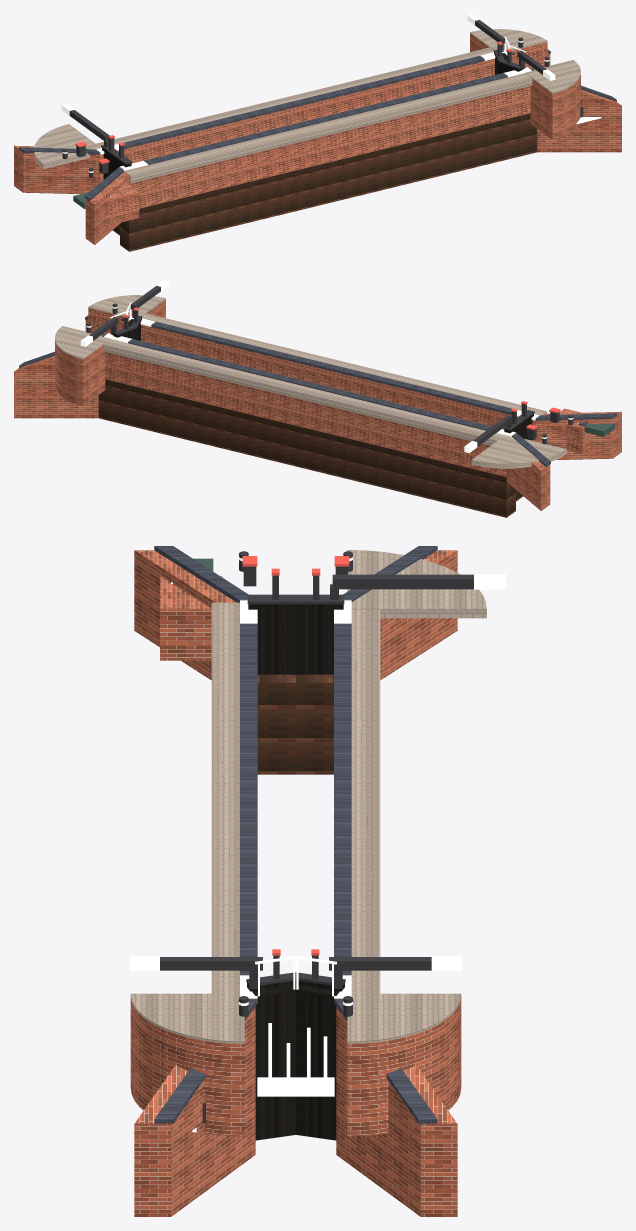
The model's file is lock-41.glb.
The picture shows the model from 3 angles, top to bottom: view 1: azimuth 30°, elevation 25°; view 2: azimuth 150°, elevation 25°; view 3: azimuth 270°, elevation 25°; orthographic projection. The views are drawn at different scales.
Parts seen in each view (by area): view 1: Chamber, ChamberWet, Edge, Coping.001, TopGateCap, Coping, TopGate; view 2: Chamber, ChamberWet, Edge, Coping.001, TopGateCap, Coping, TopGate; view 3: Chamber, Edge, Coping.001, TopGate, TopGateCap, ChamberWet, Coping, Leak.
Part boxes in pixels (bbox=[...]): Chamber: bbox=[14, 33, 621, 244]; ChamberWet: bbox=[112, 113, 537, 251]; Edge: bbox=[34, 29, 580, 183]; Coping.001: bbox=[19, 49, 616, 200]; TopGateCap: bbox=[62, 20, 583, 178]; Coping: bbox=[61, 14, 555, 172]; TopGate: bbox=[102, 52, 525, 179]; Chamber: bbox=[14, 299, 621, 510]; ChamberWet: bbox=[98, 379, 523, 517]; Edge: bbox=[55, 295, 566, 468]; Coping.001: bbox=[19, 315, 616, 466]; TopGateCap: bbox=[86, 286, 573, 446]; Coping: bbox=[80, 280, 573, 452]; TopGate: bbox=[110, 318, 533, 440]; Chamber: bbox=[130, 550, 461, 1216]; Edge: bbox=[130, 550, 486, 1043]; Coping.001: bbox=[154, 546, 437, 1123]; TopGate: bbox=[247, 604, 344, 1140]; TopGateCap: bbox=[160, 551, 473, 1123]; ChamberWet: bbox=[257, 674, 333, 774]; Coping: bbox=[130, 557, 505, 1005]; Leak: bbox=[171, 582, 334, 1132].
Size of the model in its own units: 33.26 by 5.78 by 10.24.
Materials: 11 (8 with a texture image).
